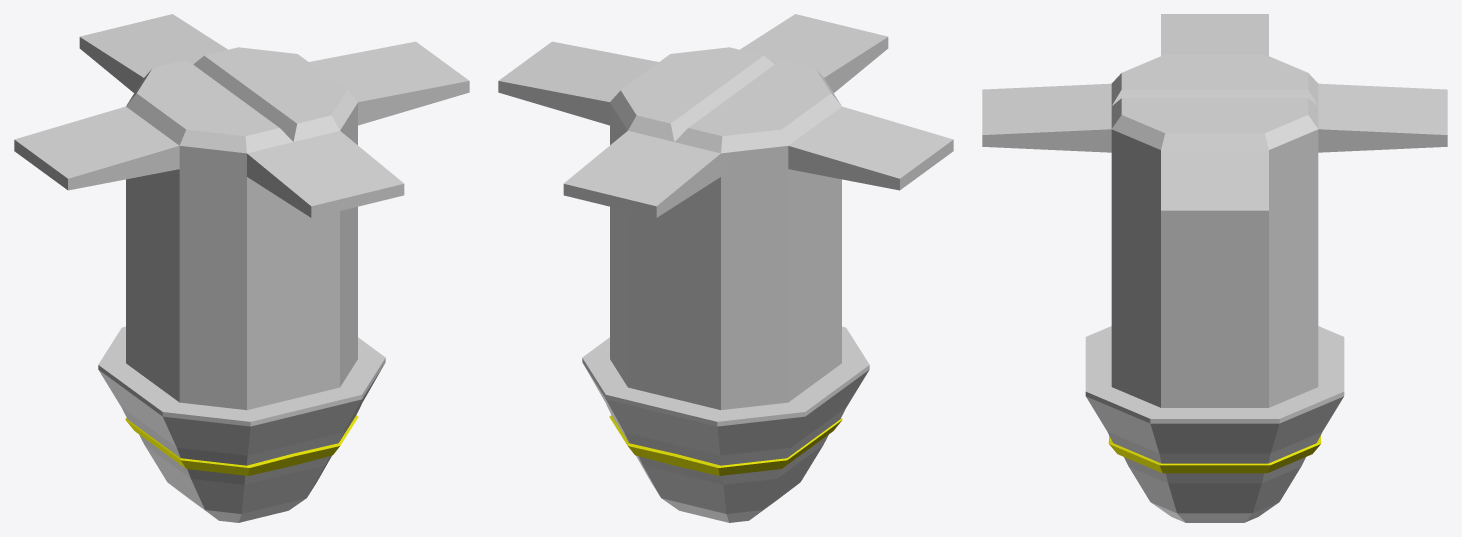
The model's file is HoloHolder_Structure.fbx.
3 views of the same model, side by side, from view 1: azimuth 30°, elevation 25°; view 2: azimuth 150°, elevation 25°; view 3: azimuth 270°, elevation 25° (orthographic).
Parts seen in each view (by area): view 1: Cube; view 2: Cube; view 3: Cube.
Boxes of the visible parts, <box> form: Cube: <box>14,14,469,522</box>; Cube: <box>498,14,953,522</box>; Cube: <box>982,14,1447,522</box>.
Size of the model in its own units: 18000 by 17529 by 18000.
